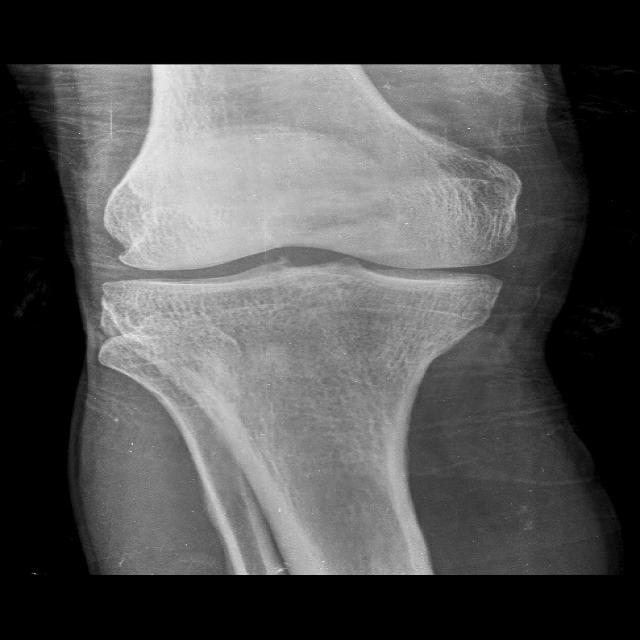osteo: (93, 174, 525, 336)
